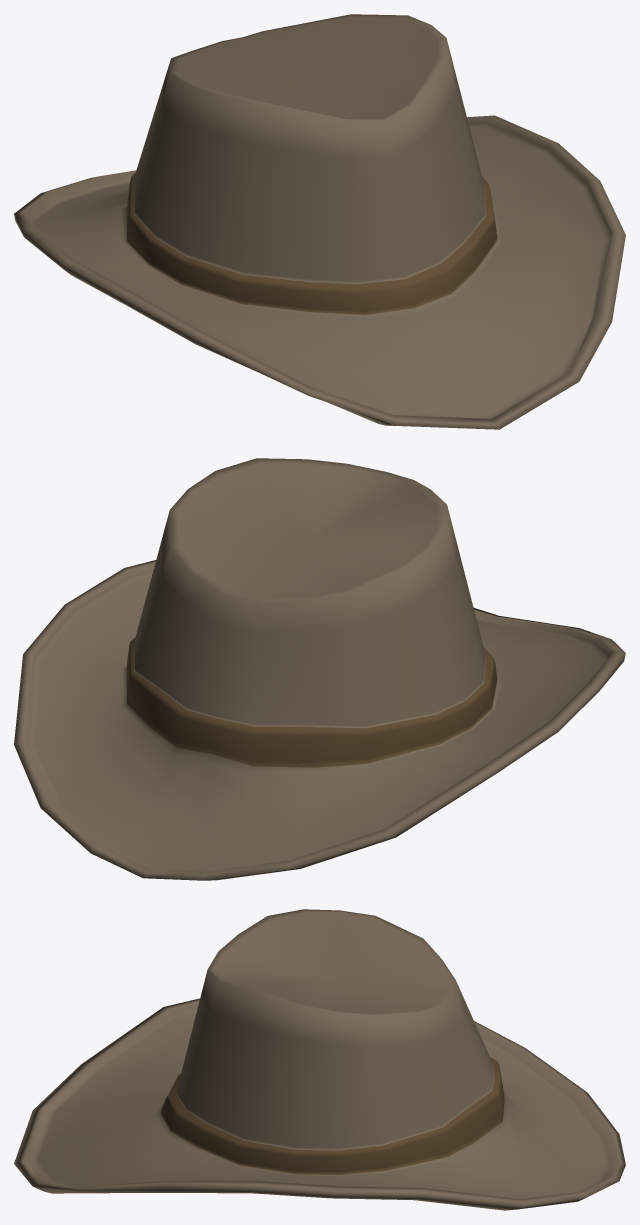
Rendered from hat.fbx.
3 renders of one model, top to bottom at view 1: azimuth 30°, elevation 25°; view 2: azimuth 150°, elevation 25°; view 3: azimuth 270°, elevation 25°, orthographic. The views are drawn at different scales.
Visible parts, largest first — view 1: Hat_Straw; view 2: Hat_Straw; view 3: Hat_Straw.
Boxes of the visible parts, x1=… form: Hat_Straw: x1=14, y1=14, x2=625, y2=429; Hat_Straw: x1=14, y1=458, x2=625, y2=880; Hat_Straw: x1=14, y1=909, x2=625, y2=1210.
Size of the model in its own units: 61.57 by 29.95 by 76.68.
Materials: 1 (1 with a texture image).
